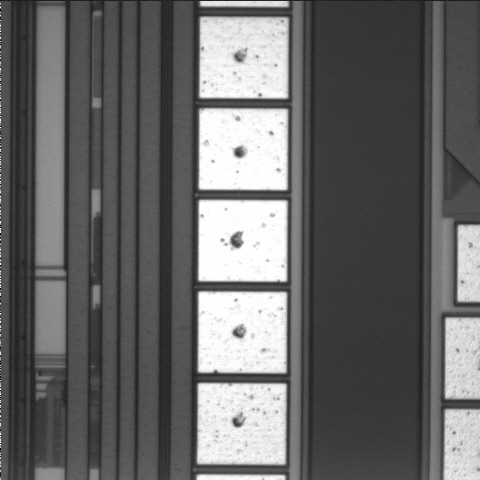pad: (199, 108, 288, 190), (198, 200, 287, 282), (197, 383, 286, 465), (199, 17, 288, 98), (198, 292, 287, 373)
